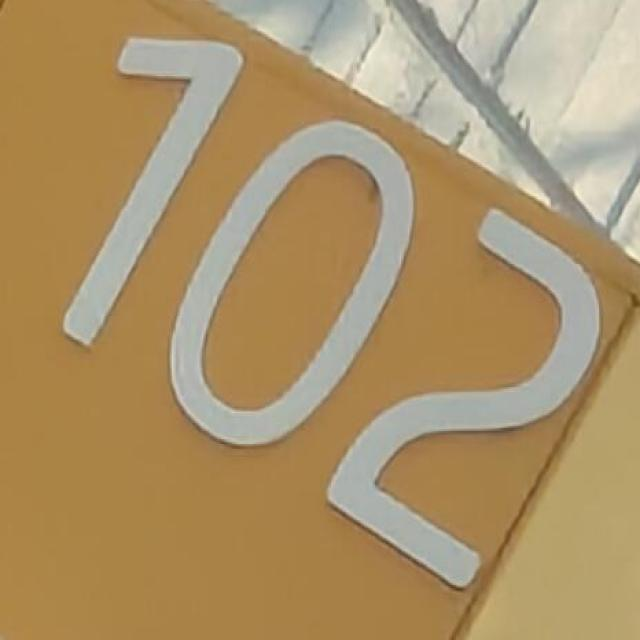character: (321, 205, 605, 594), (165, 110, 424, 456), (56, 33, 249, 356)
